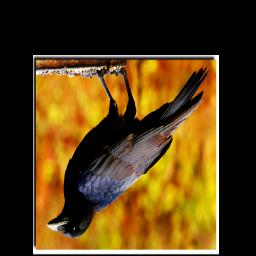Crow: (46, 67, 209, 241)
